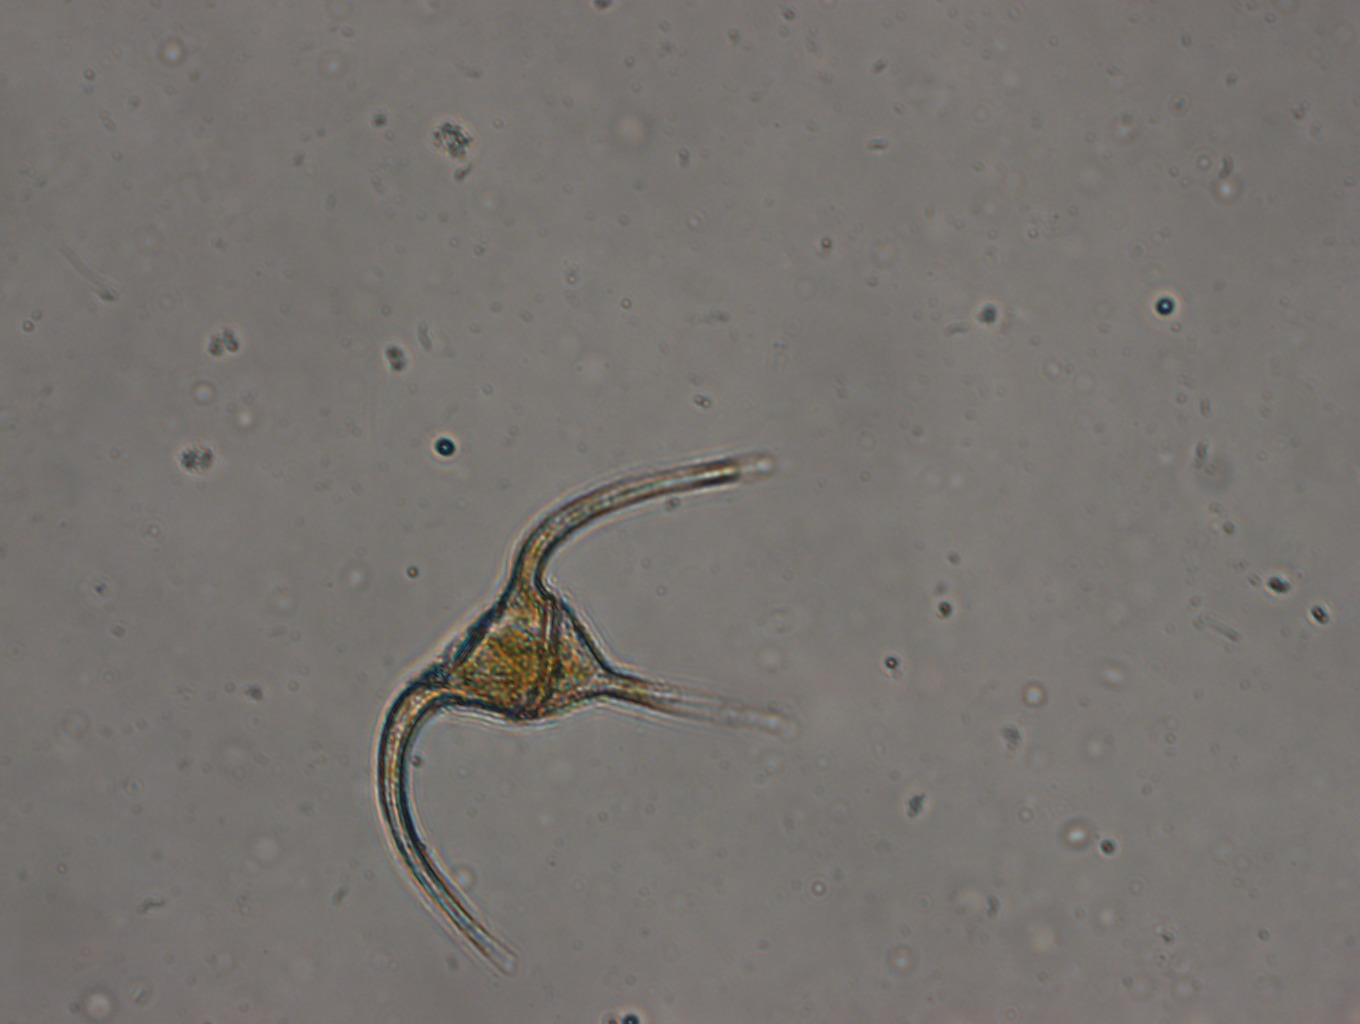ceratium trichoceros: (369, 445, 797, 975)
